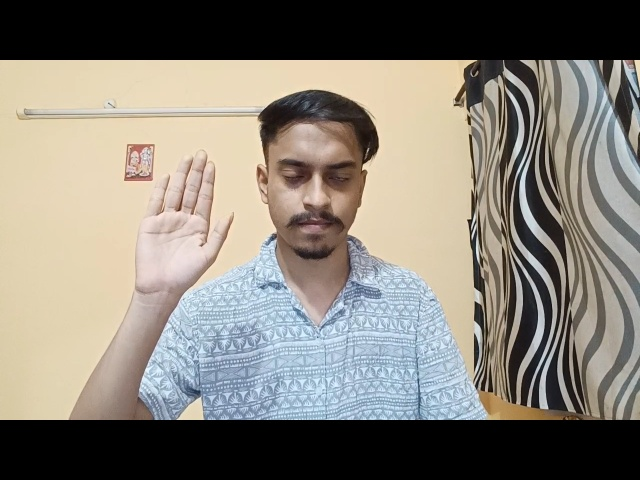Hello: (118, 148, 246, 306)
